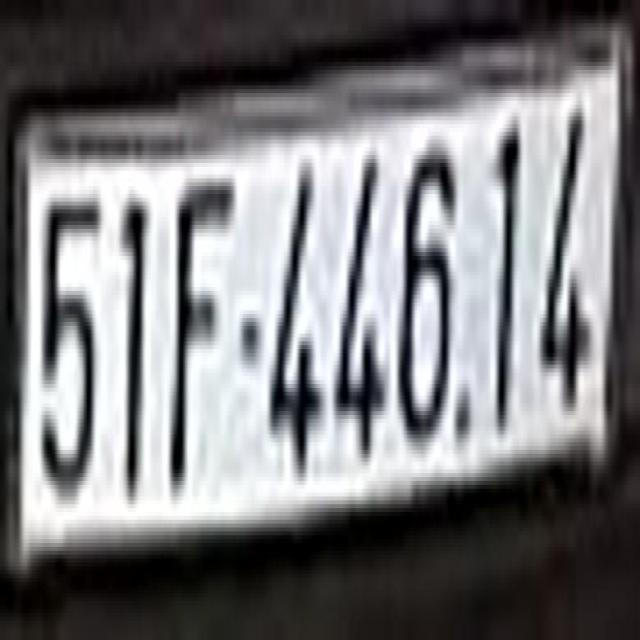1: (485, 113, 525, 473), (115, 171, 148, 504)
4: (263, 151, 329, 485), (536, 101, 596, 430), (332, 151, 394, 458)
5: (36, 182, 97, 504)
6: (398, 136, 455, 488)
F: (169, 175, 238, 512)
